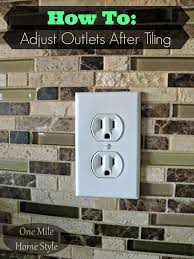outlet: (97, 116, 118, 141), (97, 154, 119, 177)
